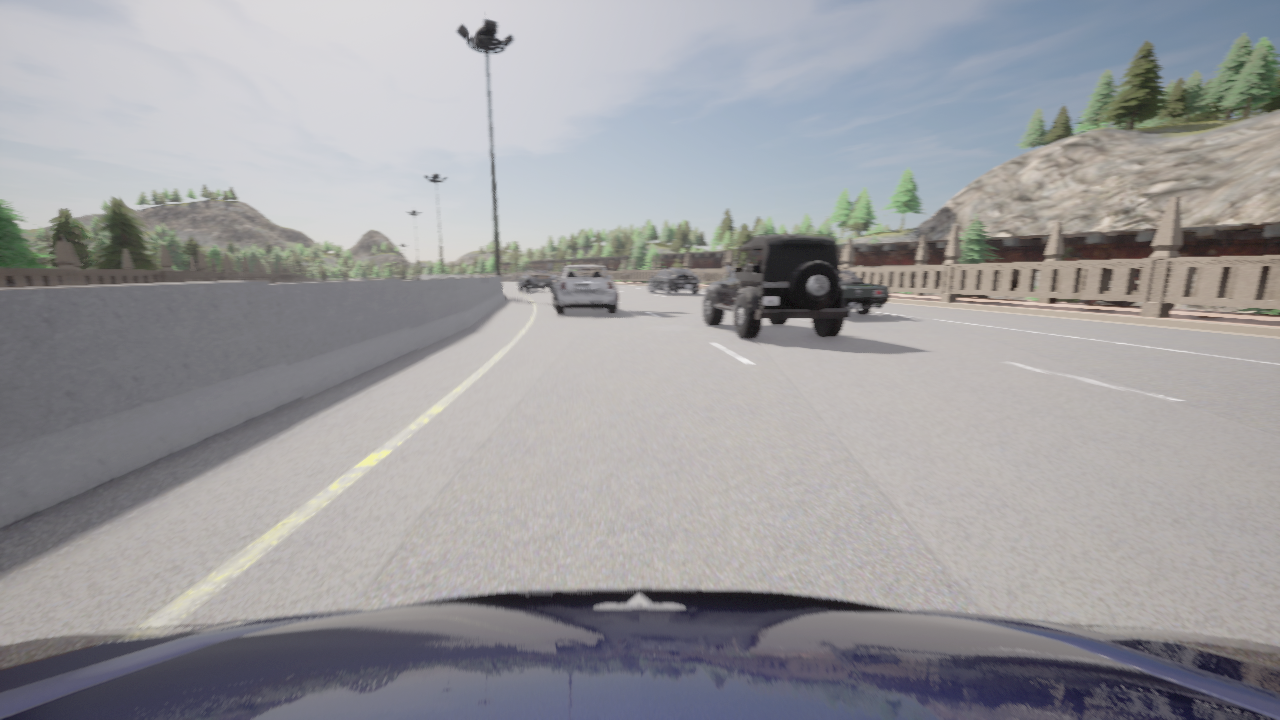cyclist: (0, 588, 1279, 719), (703, 235, 850, 338), (552, 265, 617, 314), (841, 270, 888, 314), (649, 268, 699, 294), (518, 269, 553, 291)
